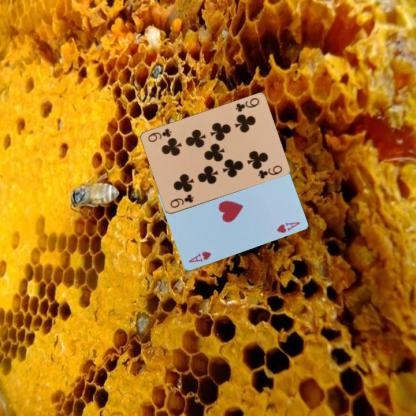9c: (232, 96, 261, 113), (168, 192, 194, 209)
Ah: (186, 249, 213, 264)
